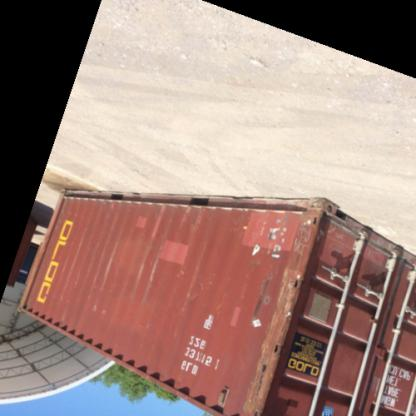Damage: (235, 267, 314, 410), (244, 206, 321, 264), (130, 248, 165, 302), (180, 254, 212, 309), (86, 244, 118, 292), (58, 229, 82, 291), (179, 205, 203, 231), (148, 208, 164, 245), (88, 304, 108, 320)
